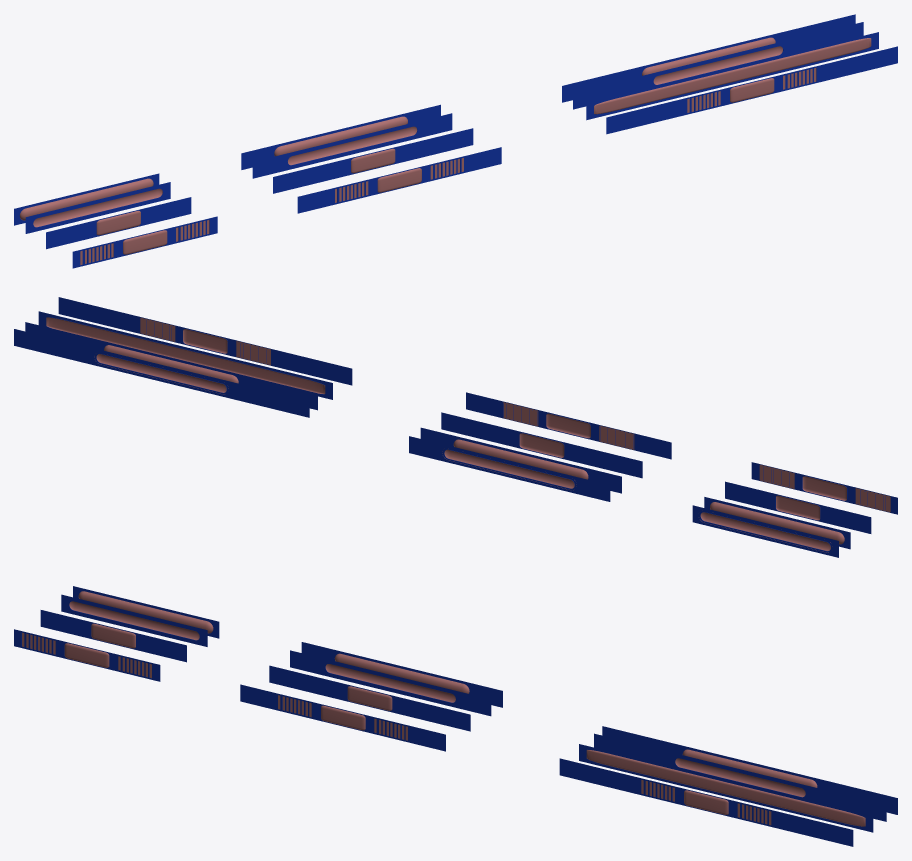
File: Window Walls 5 Height.FBX
3 renders of one model, top to bottom at view 1: azimuth 30°, elevation 25°; view 2: azimuth 150°, elevation 25°; view 3: azimuth 330°, elevation 25°, orthographic.
Visible parts, largest first — view 1: Box064, Box069, Box063, Box040, Box034, Box035, Box068, Box010, Box002, Box003, Box039, Box009; view 2: Box068, Box069, Box064, Box040, Box035, Box039, Box063, Box010, Box009, Box003, Box034, Box002; view 3: Box064, Box069, Box063, Box040, Box035, Box034, Box068, Box002, Box010, Box003, Box039, Box009.
Part boxes in pixels (<box>): Box064: <box>586,32,878,120</box>; Box069: <box>606,46,897,134</box>; Box063: <box>573,22,863,109</box>; Box040: <box>297,147,501,213</box>; Box034: <box>252,113,452,178</box>; Box035: <box>273,128,473,193</box>; Box068: <box>562,14,855,102</box>; Box010: <box>72,216,217,268</box>; Box002: <box>25,182,170,233</box>; Box003: <box>46,197,191,249</box>; Box039: <box>241,104,440,169</box>; Box009: <box>14,173,159,225</box>; Box068: <box>14,329,309,417</box>; Box069: <box>58,297,352,385</box>; Box064: <box>38,311,332,399</box>; Box040: <box>466,392,671,459</box>; Box035: <box>441,412,642,478</box>; Box039: <box>409,436,610,501</box>; Box063: <box>25,322,317,410</box>; Box010: <box>751,462,897,514</box>; Box009: <box>692,505,838,557</box>; Box003: <box>725,481,871,533</box>; Box034: <box>420,427,621,493</box>; Box002: <box>704,497,850,549</box>; Box064: <box>579,744,873,832</box>; Box069: <box>559,758,853,846</box>; Box063: <box>594,733,886,821</box>; Box040: <box>240,684,445,751</box>; Box035: <box>269,665,470,731</box>; Box034: <box>290,650,491,716</box>; Box068: <box>602,726,897,814</box>; Box002: <box>61,594,207,646</box>; Box010: <box>14,629,160,681</box>; Box003: <box>40,610,186,662</box>; Box039: <box>301,642,502,707</box>; Box009: <box>73,586,219,638</box>.
Size of the model in its own units: 257 by 5 by 31.94.
